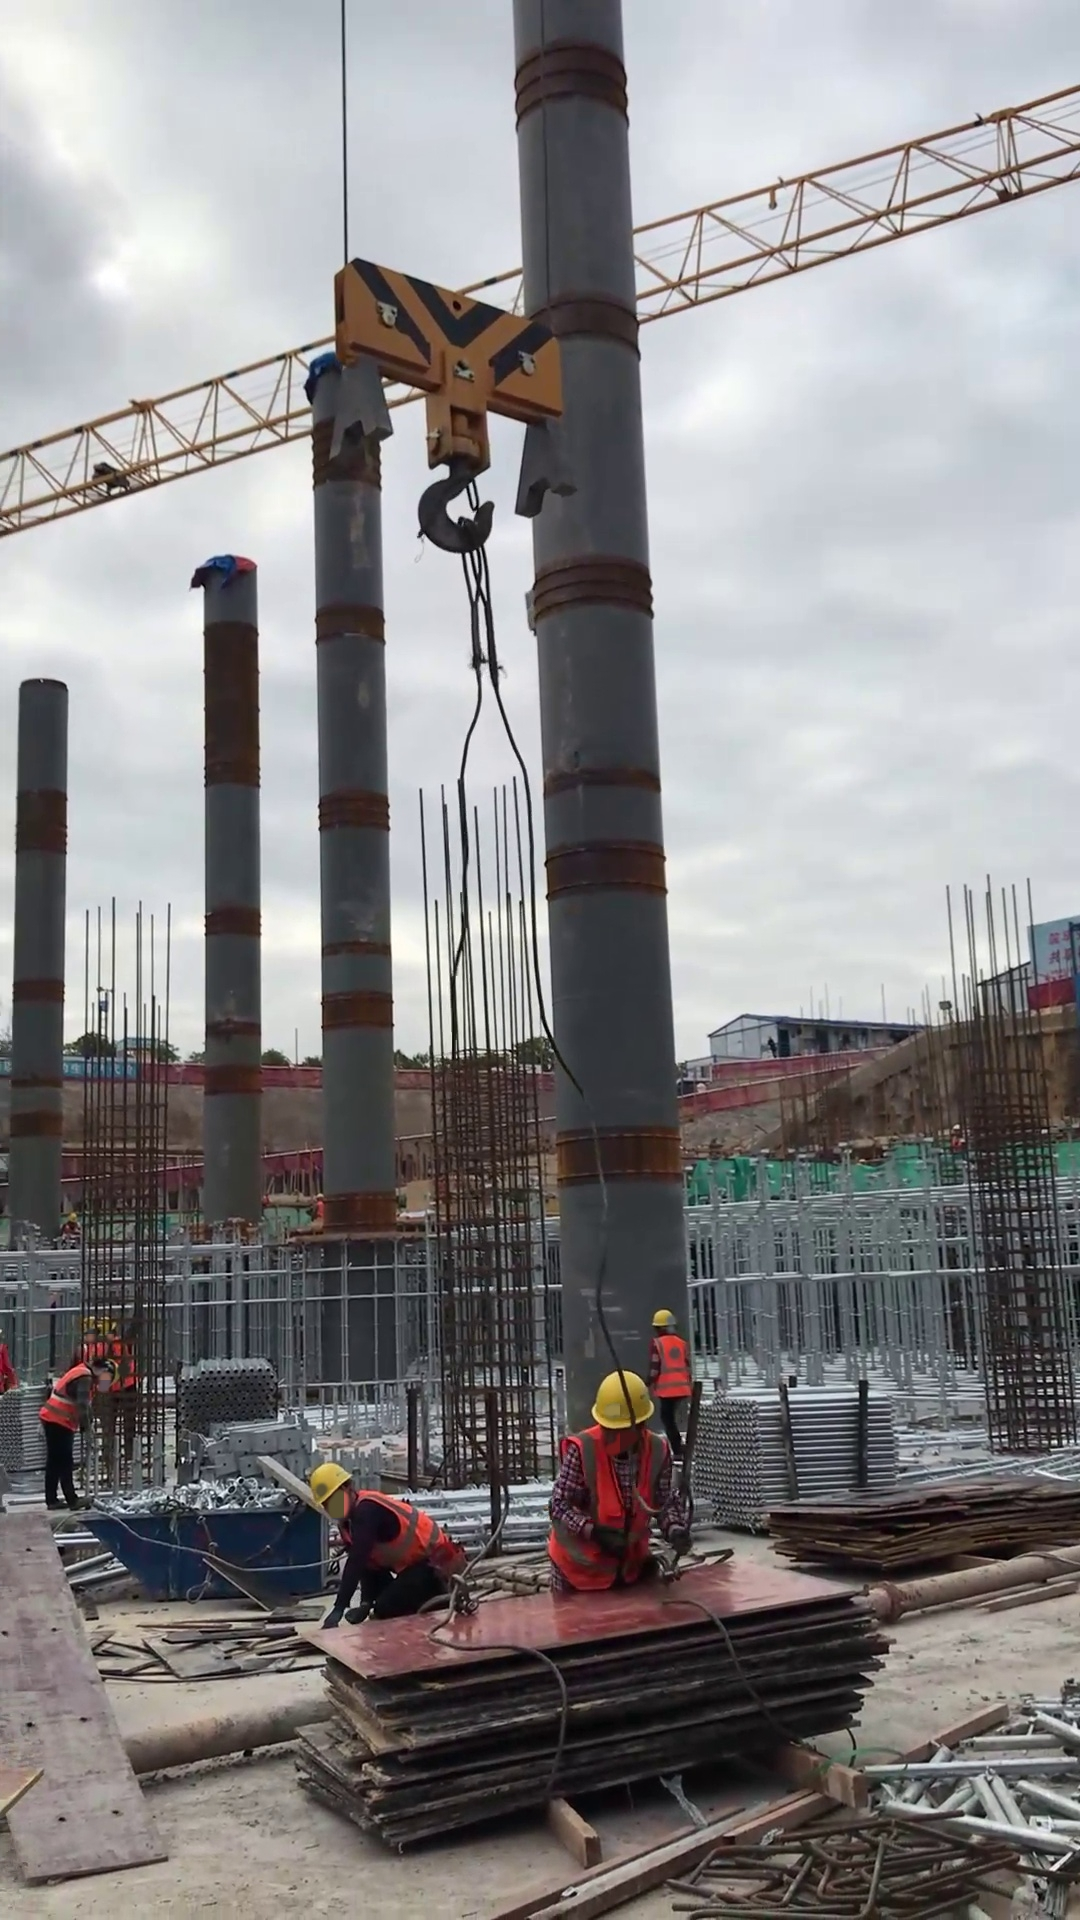board: (289, 1560, 894, 1847), (765, 1476, 1080, 1567)
helmet: (591, 1367, 654, 1431), (308, 1461, 356, 1507), (651, 1305, 679, 1330), (95, 1314, 121, 1339), (105, 1357, 121, 1389), (67, 1211, 78, 1223), (316, 1192, 324, 1200)
hook: (323, 255, 581, 559)
hopper: (74, 1503, 333, 1604)
person: (542, 1365, 693, 1597), (309, 1456, 469, 1630), (37, 1354, 120, 1513), (89, 1311, 147, 1477), (642, 1305, 694, 1459), (58, 1209, 81, 1238), (309, 1190, 326, 1221)
scaffold: (688, 1381, 901, 1532), (404, 1474, 561, 1562), (175, 1354, 278, 1434), (1, 1381, 56, 1475)
slogan: (1, 1052, 139, 1082), (1044, 917, 1080, 983)
vest: (544, 1423, 668, 1591), (339, 1489, 453, 1577), (37, 1360, 95, 1434), (650, 1332, 691, 1398), (94, 1334, 137, 1391), (315, 1199, 324, 1218)
